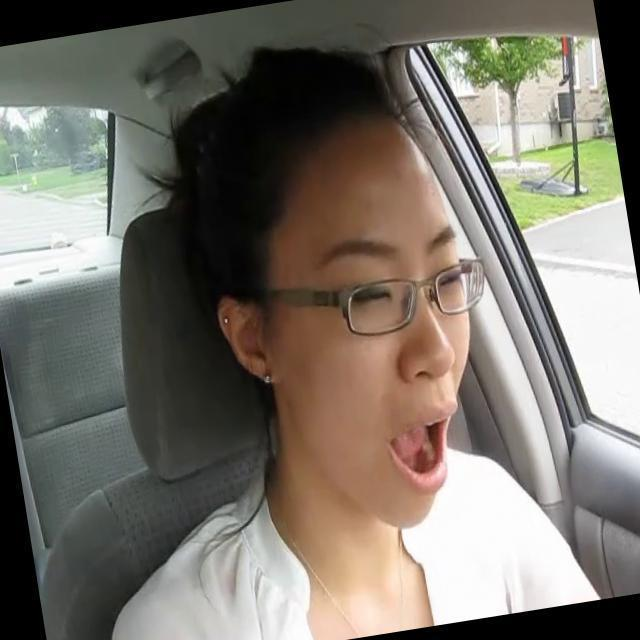open-mouth: (386, 408, 448, 484)
